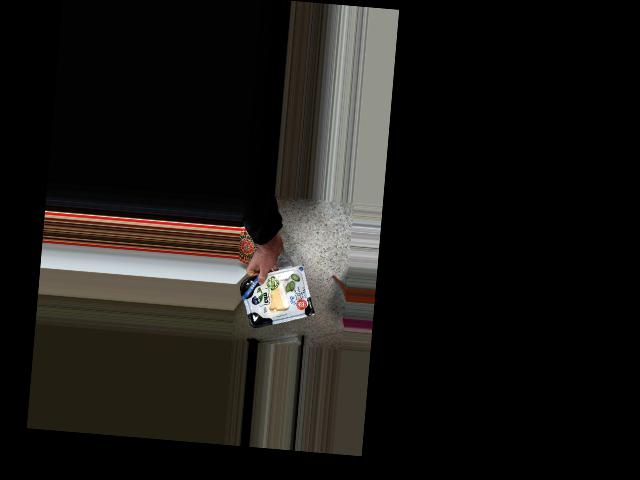cheese: (244, 271, 308, 323)
